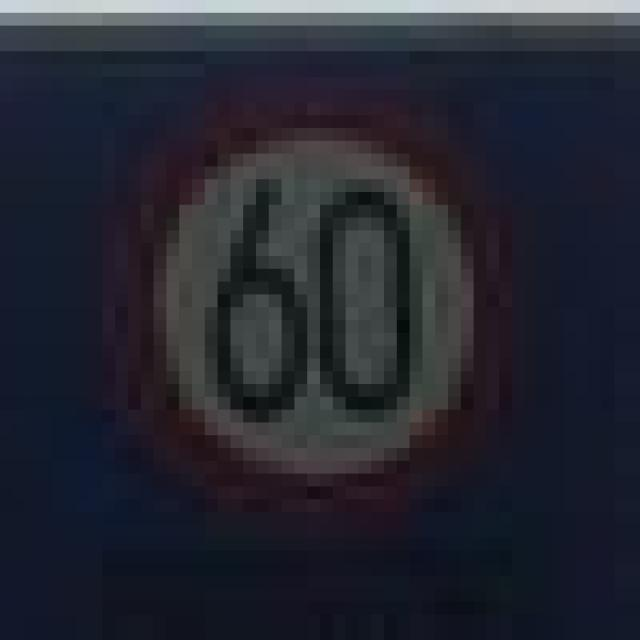SPEED_LIMIT_60: (90, 90, 499, 499)
